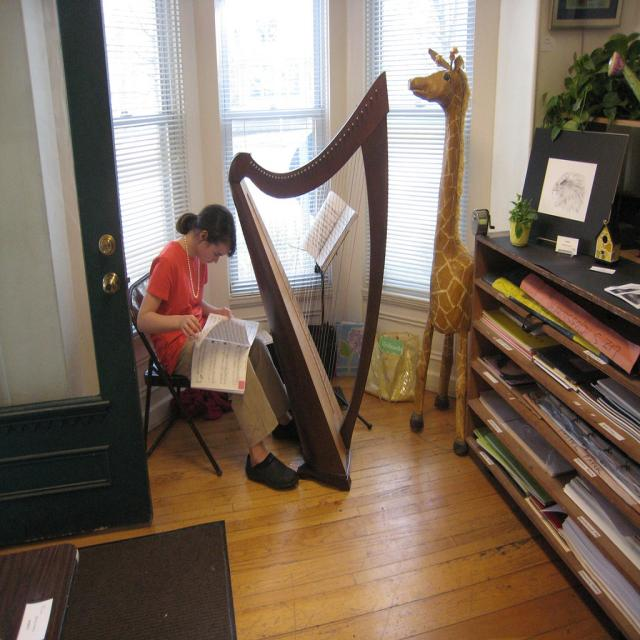harp: (223, 76, 394, 493)
